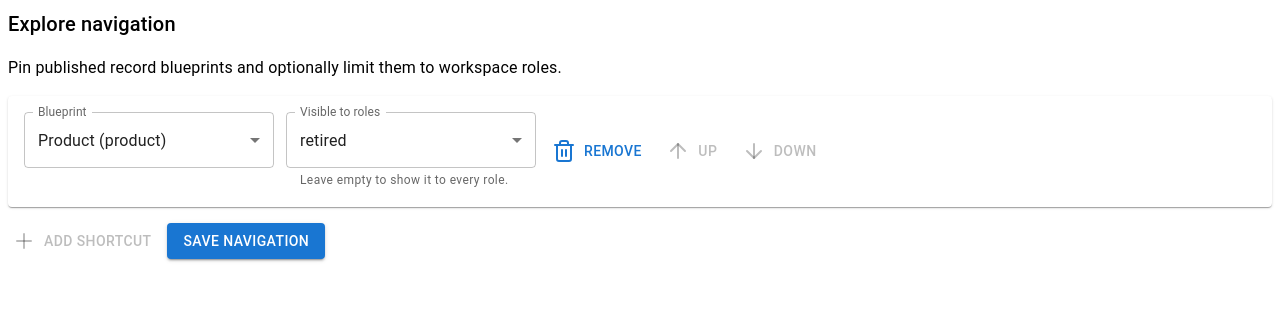
Test case: WorkspaceNavigationSection › picks visible roles from the workspace roles and keeps saved ones
Press the mouse on the dropdown named "Visible to roles" at coordinates (323, 140), box [300,130,347,150]
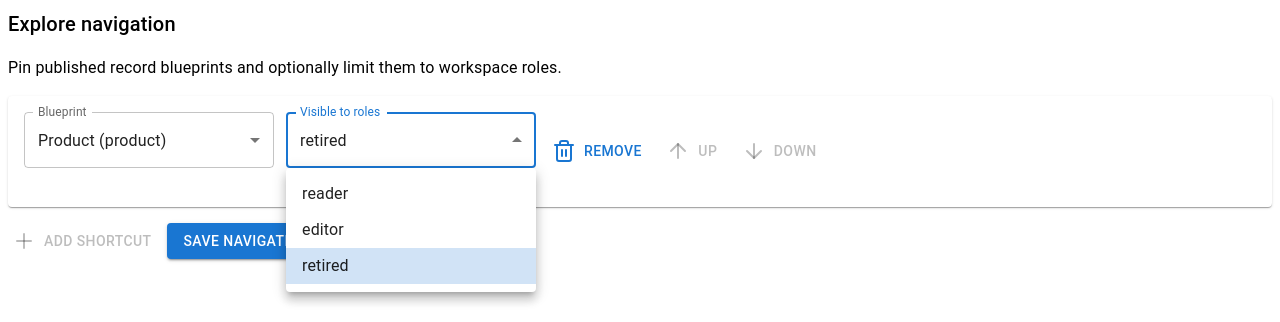
Click the option "reader" at coordinates (325, 194), box [302,184,348,203]
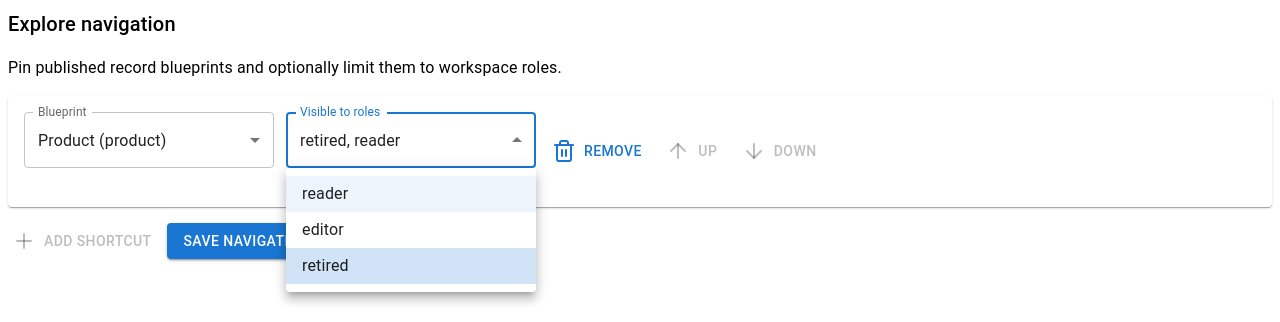
Click the option "editor" at coordinates (323, 230), box [302,220,344,239]
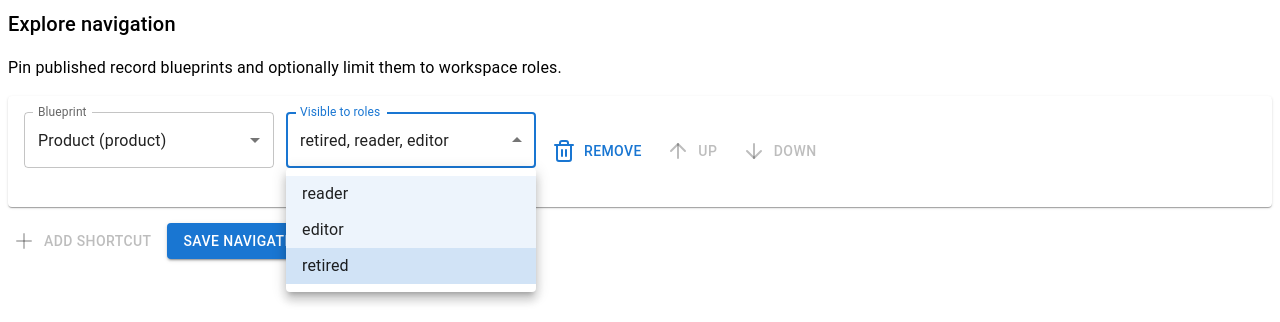
Result: the dropdown named "Visible to roles" reads "retired, reader, editor" at [300,130,449,150]
